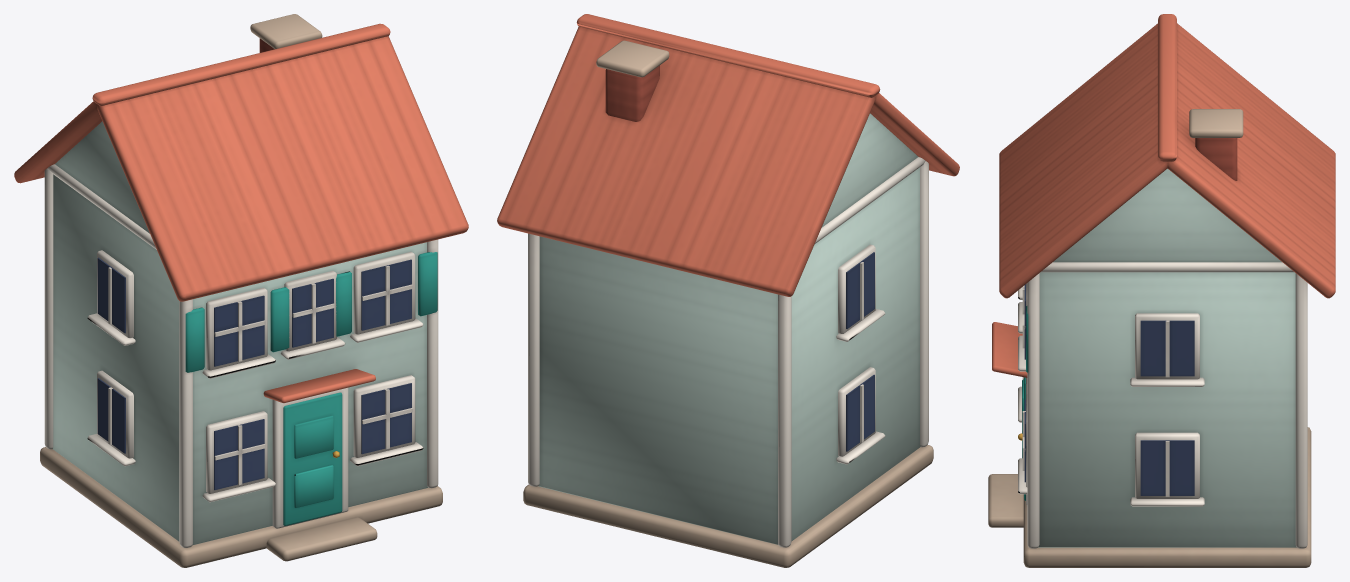
Rendered from StartKit_HouseB_Mint.fbx.
The picture shows the model from 3 angles, left to right: view 1: azimuth 30°, elevation 25°; view 2: azimuth 150°, elevation 25°; view 3: azimuth 270°, elevation 25°; orthographic projection. The views are drawn at different scales.
Parts seen in each view (by area): view 1: HouseB_Mint; view 2: HouseB_Mint; view 3: HouseB_Mint.
Boxes of the visible parts, left/top/right/bottom form: HouseB_Mint: left=14, top=14, right=468, bottom=567; HouseB_Mint: left=497, top=14, right=959, bottom=567; HouseB_Mint: left=988, top=14, right=1335, bottom=567.
Size of the model in its own units: 4.96 by 6.9 by 5.14.
1 material, 1 textured.
